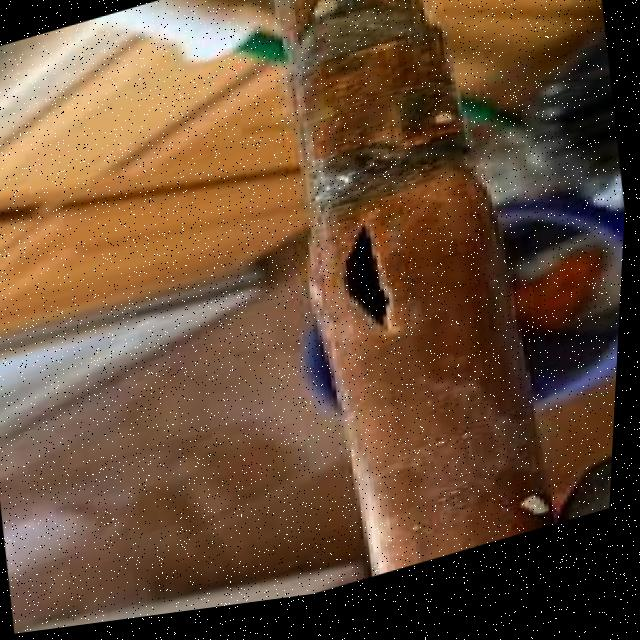rupture: (325, 216, 429, 367)
